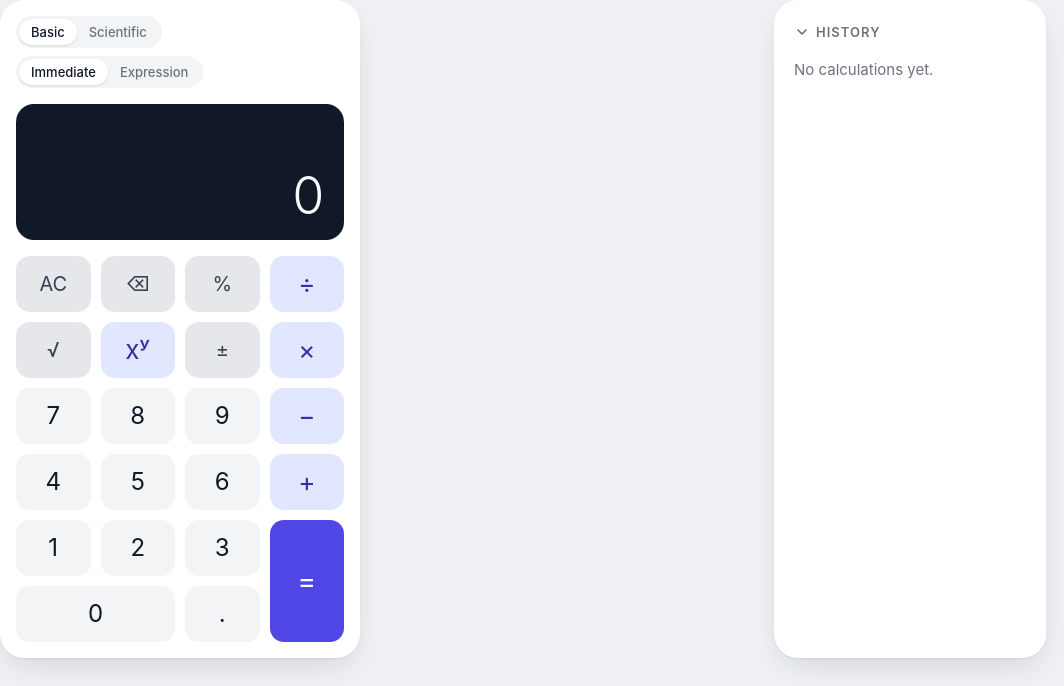
it: Calculator › shows backend errors as an alert and recovers on the next key
What coordinates should you click on to do the following:
click the button "5"
I would click on:
 (138, 482)
Its box is x1=100 y1=454 x2=175 y2=510.
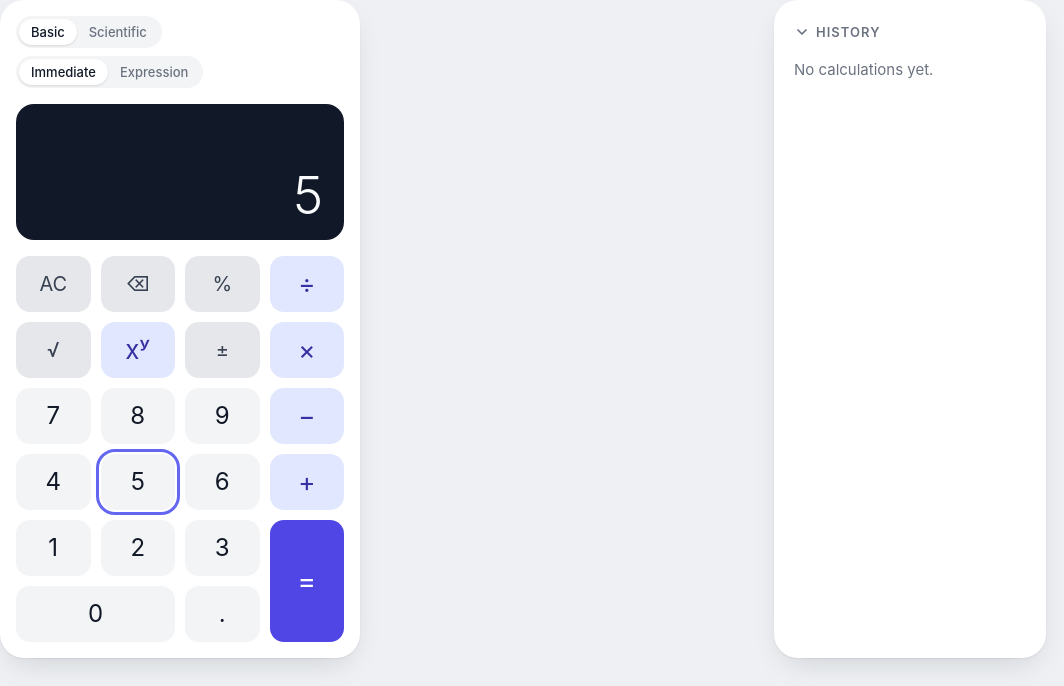
What coordinates should you click on to do the following:
click the button named "Divide"
I would click on:
 (307, 284)
Its box is x1=270 y1=256 x2=344 y2=312.
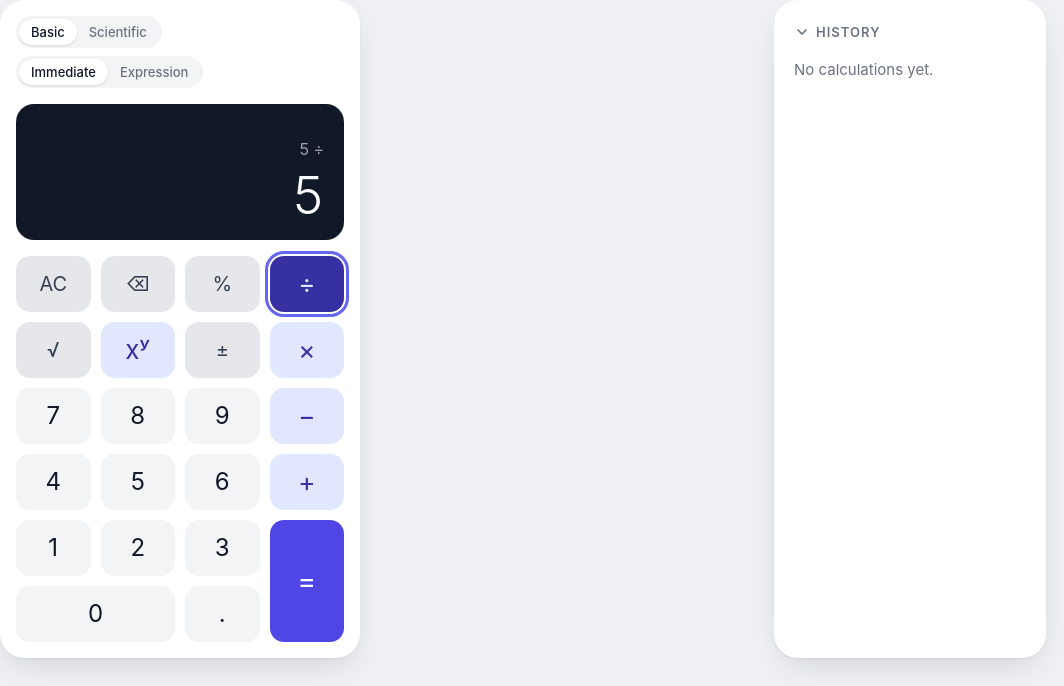
What coordinates should you click on to do the following:
click the button "0"
I would click on:
 (96, 614)
Its box is x1=16 y1=586 x2=175 y2=642.
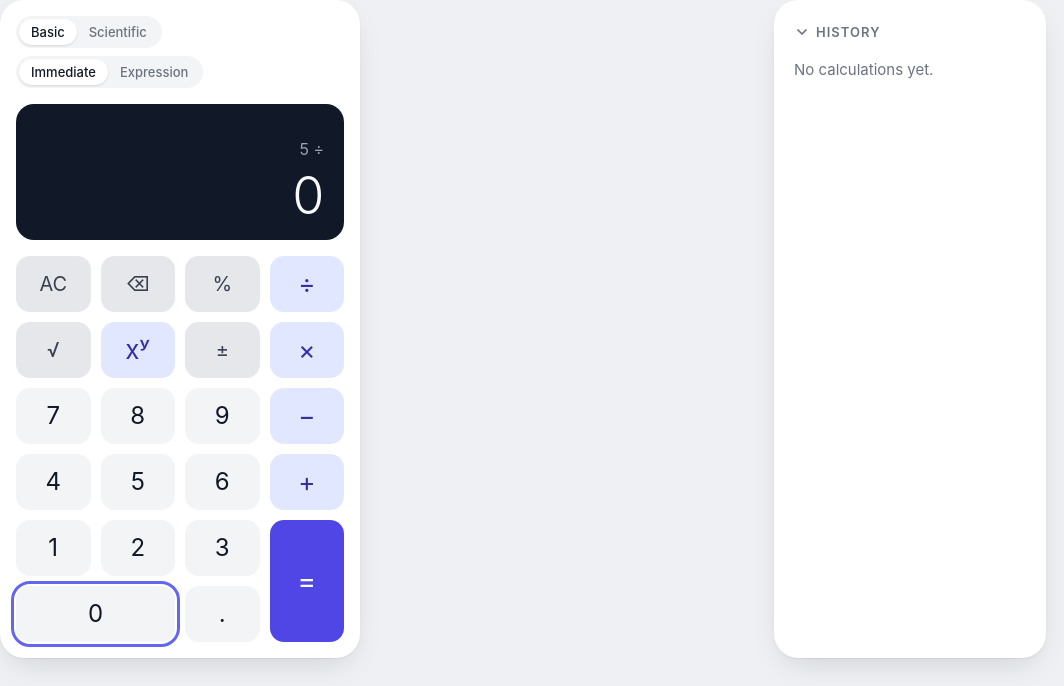
What coordinates should you click on to do the following:
click the button named "Equals"
I would click on:
 (307, 581)
Its box is x1=270 y1=520 x2=344 y2=642.
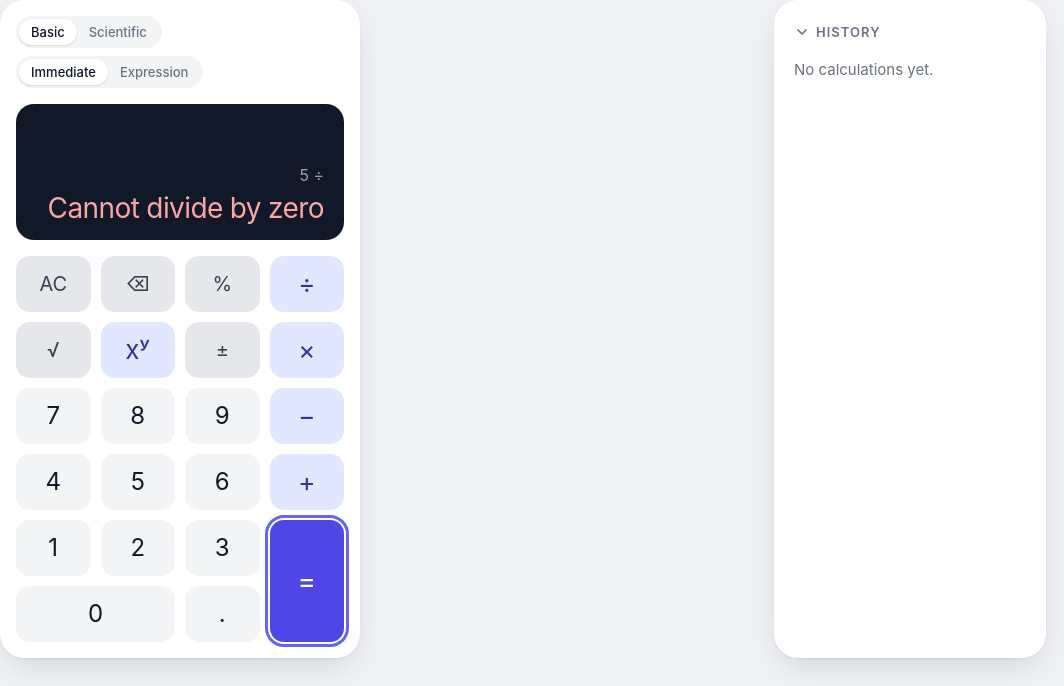
Expected: the message reads "Cannot divide by zero", x1=48 y1=191 x2=324 y2=225
What coordinates should you click on to do the following:
click the button "7"
I would click on:
 (53, 416)
Its box is x1=16 y1=388 x2=90 y2=444.
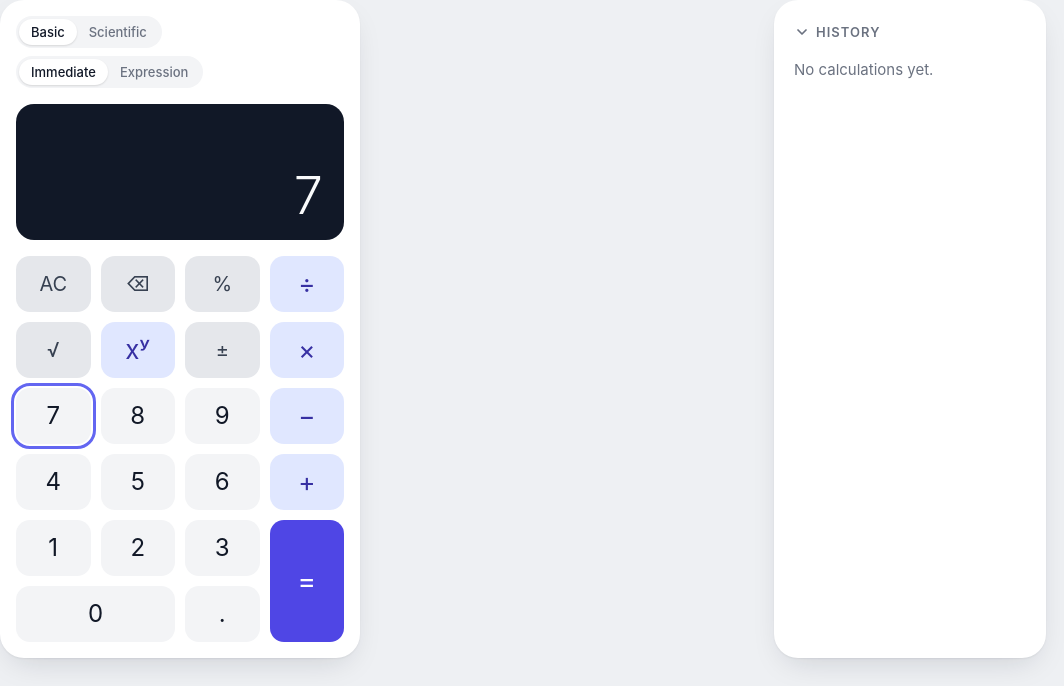
Expected: the message reads "7", x1=291 y1=164 x2=324 y2=227
